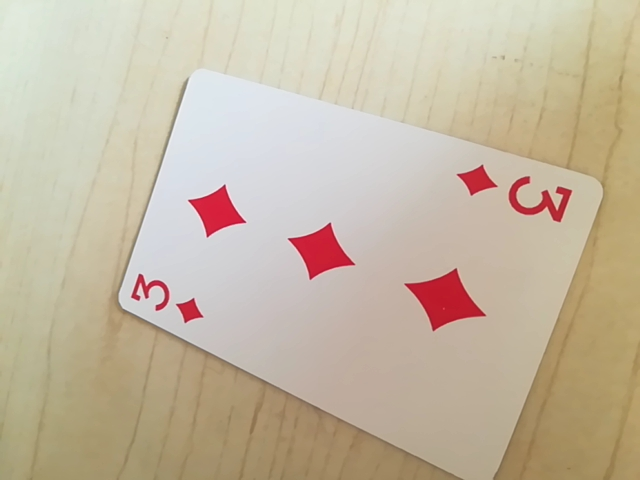fk 3: (454, 166, 573, 230), (124, 267, 206, 325)
